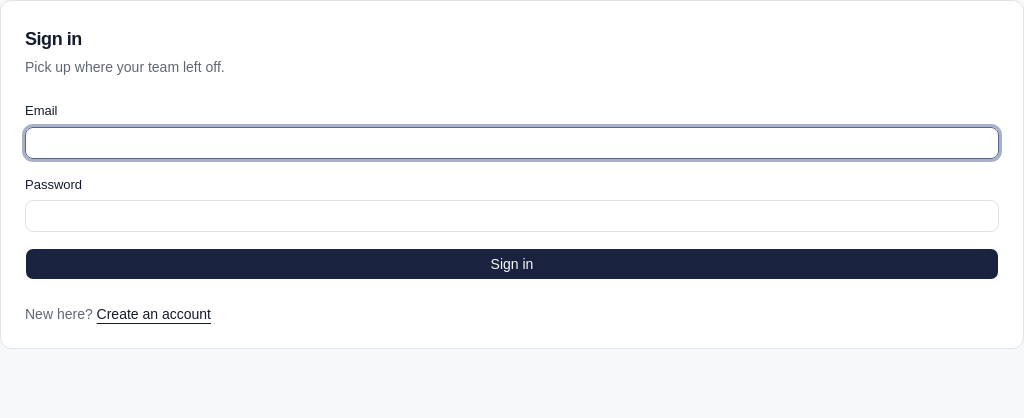
Test: LoginPage › reports a throttled sign-in above the form
The width and height of the screenshot is (1024, 418).
Type "alice@example.com" into the field labelled "Email" at (512, 142), box [25,126,999,158]
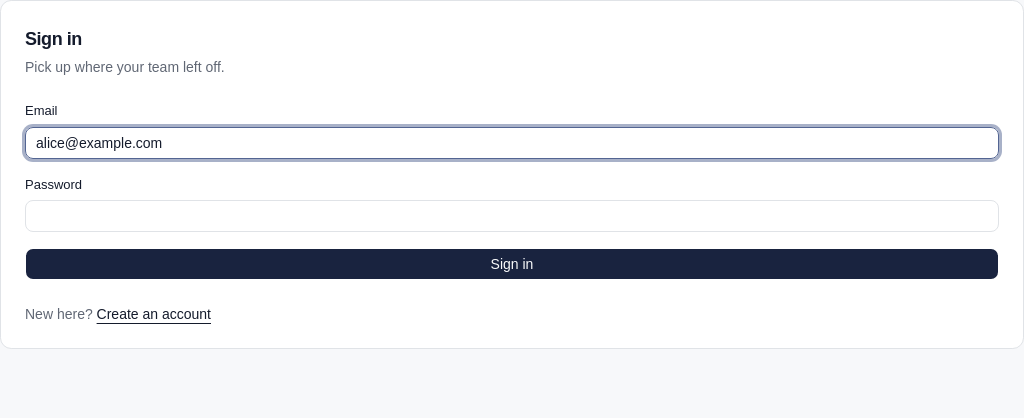
Type "correct-horse-battery" into the password field labelled "Password" at (512, 216), box [25,200,999,232]
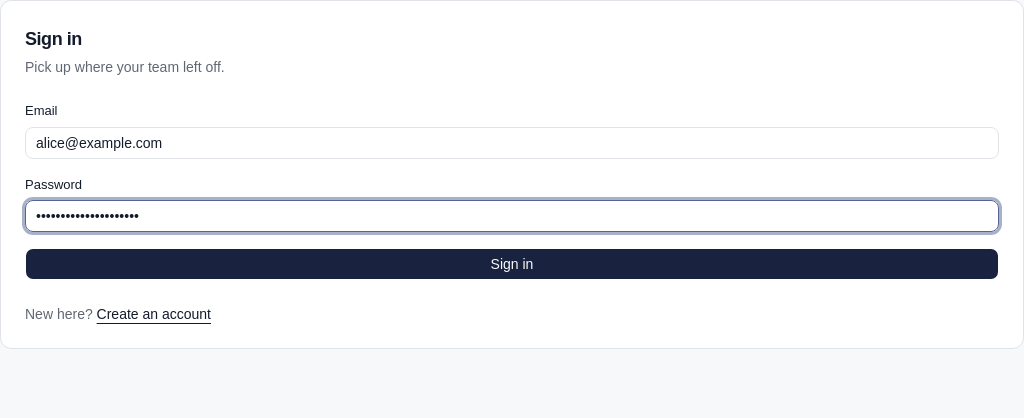
Click the button "Sign in" at (512, 264), box [25,248,999,280]
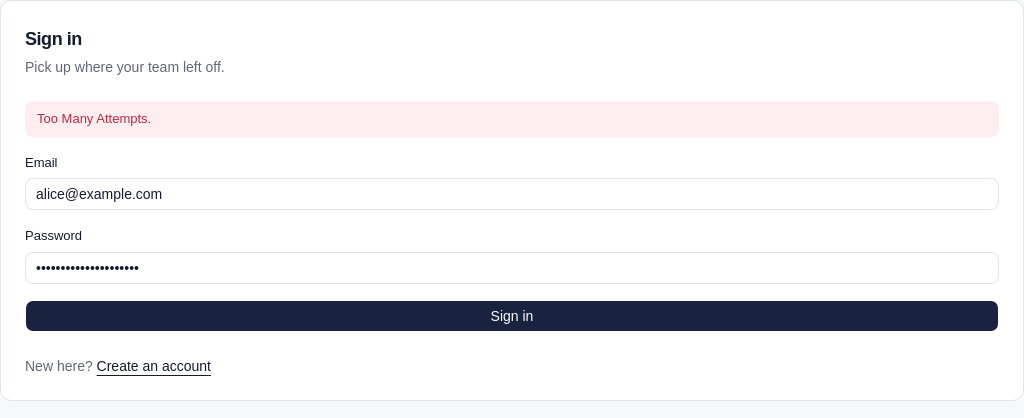
Check: the message reads "Too Many Attempts.", box [37,111,151,126]
